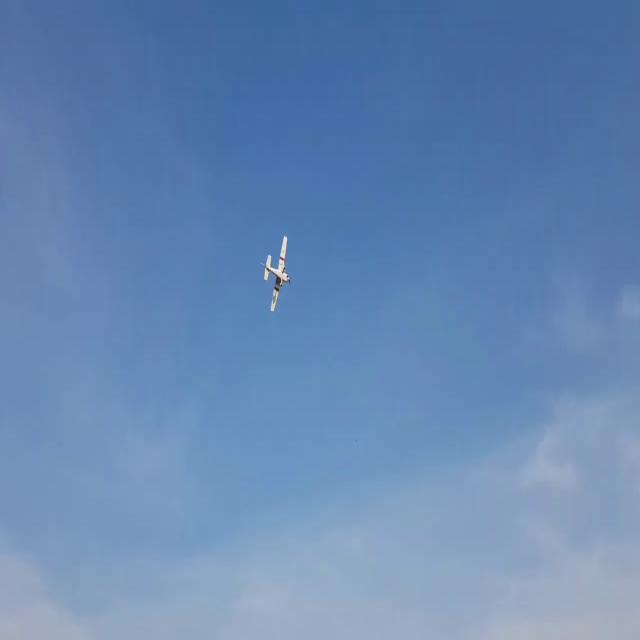iha: (260, 267, 292, 281)
